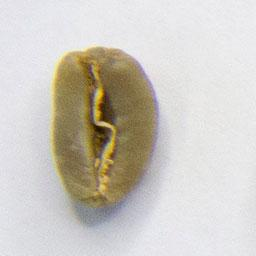longberry: (47, 42, 165, 212)
